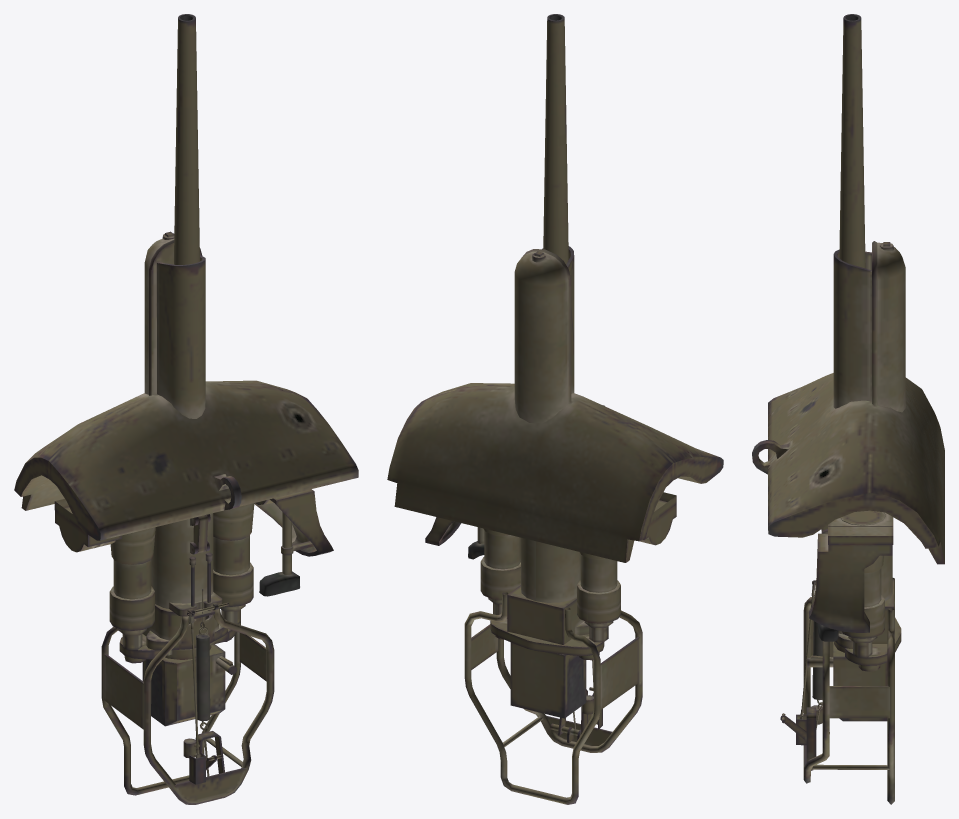
Rendered from Gun_04.glb.
The picture shows the model from 3 angles, left to right: view 1: azimuth 30°, elevation 25°; view 2: azimuth 150°, elevation 25°; view 3: azimuth 270°, elevation 25°; orthographic projection. The views are drawn at different scales.
Parts seen in each view (by area): view 1: set_0_group_0; view 2: set_0_group_0; view 3: set_0_group_0.
Part boxes in pixels (left/top/right/bottom): set_0_group_0: left=14, top=14, right=358, bottom=804; set_0_group_0: left=387, top=14, right=723, bottom=804; set_0_group_0: left=752, top=14, right=944, bottom=804.
Size of the model in its own units: 0.8983 by 2.61 by 0.5882.
1 material, 1 textured.
